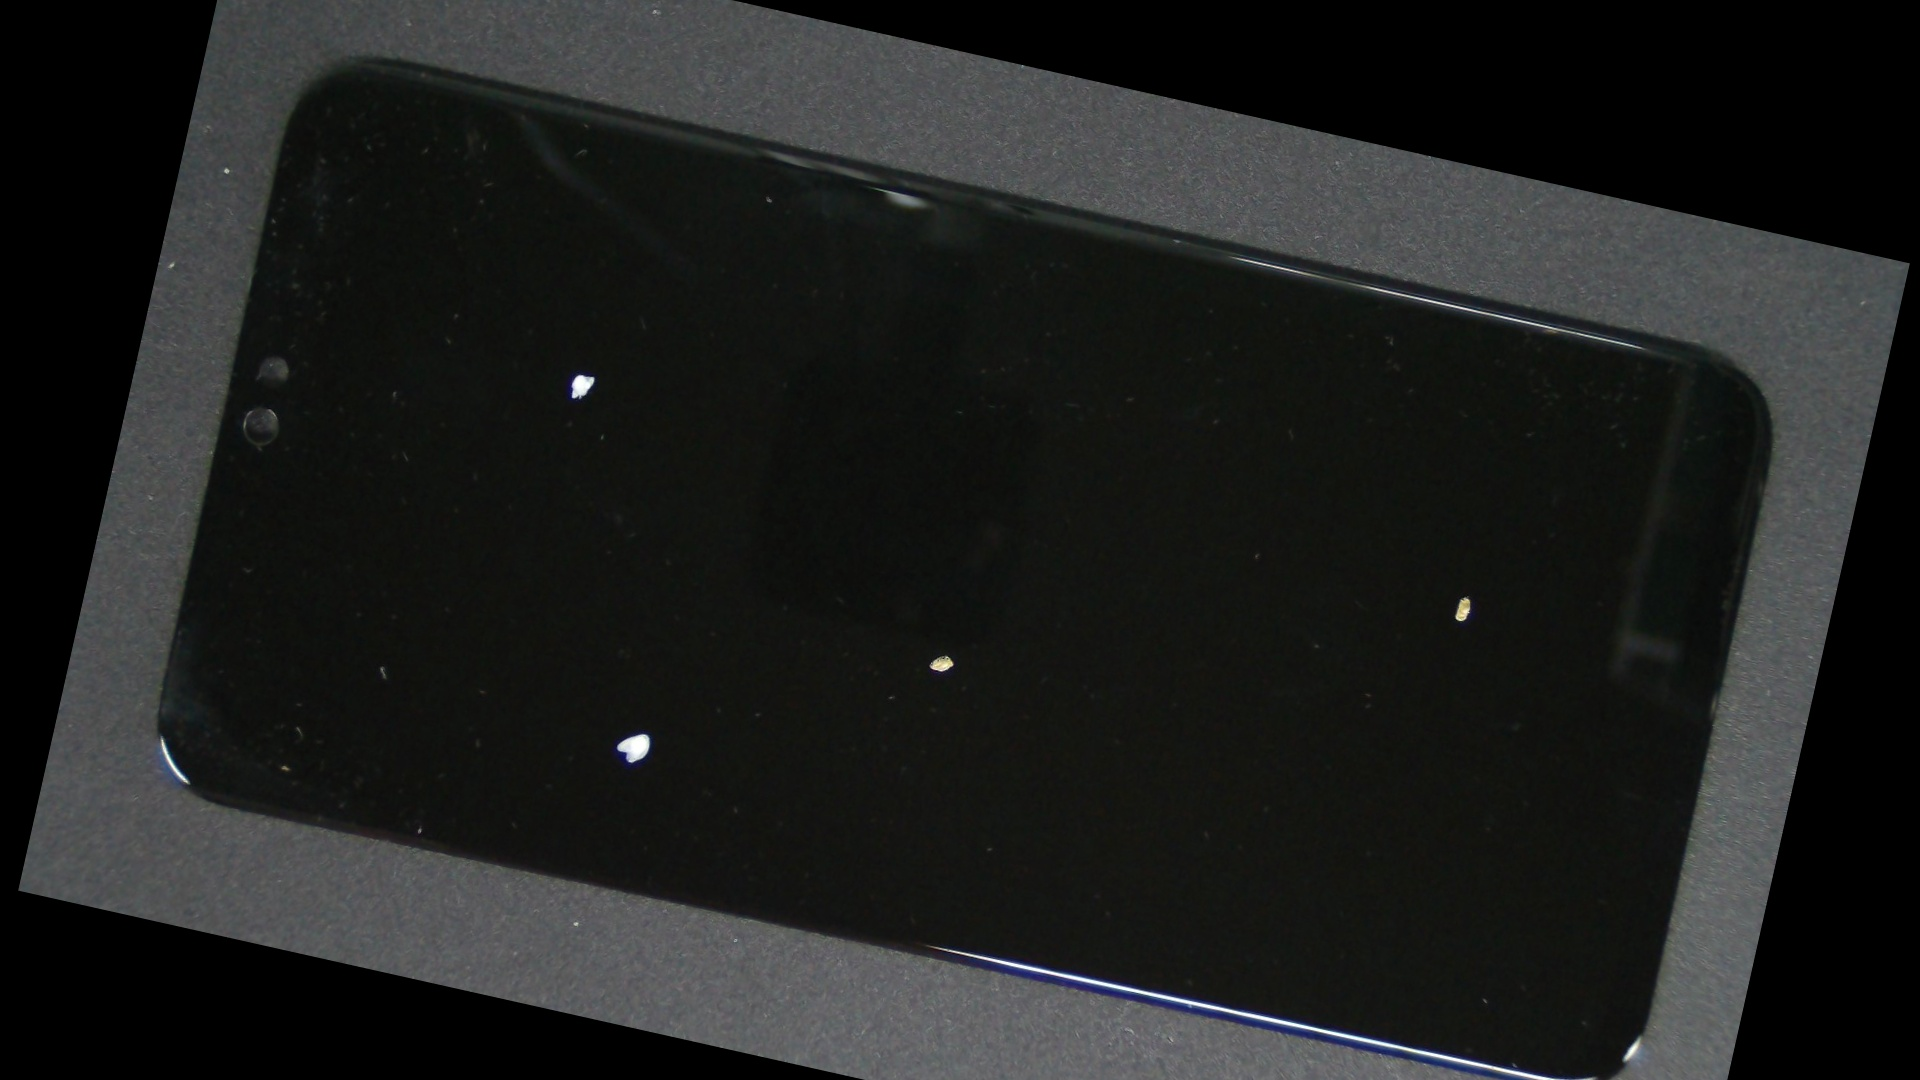oil: (465, 272, 1428, 1036), (764, 243, 1865, 880), (301, 311, 1006, 1079), (328, 132, 845, 616)
